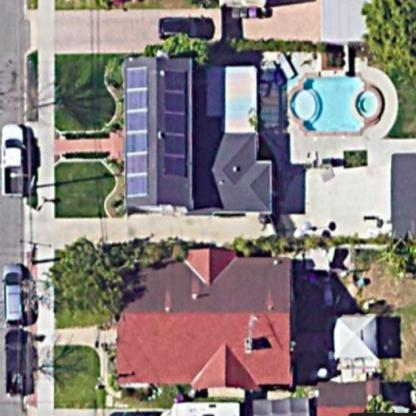car: (2, 121, 36, 203), (6, 333, 41, 405), (153, 11, 214, 50), (6, 256, 28, 327)
solar_panel: (159, 47, 196, 187), (123, 55, 156, 202)
swimming_pool: (288, 67, 389, 140)
